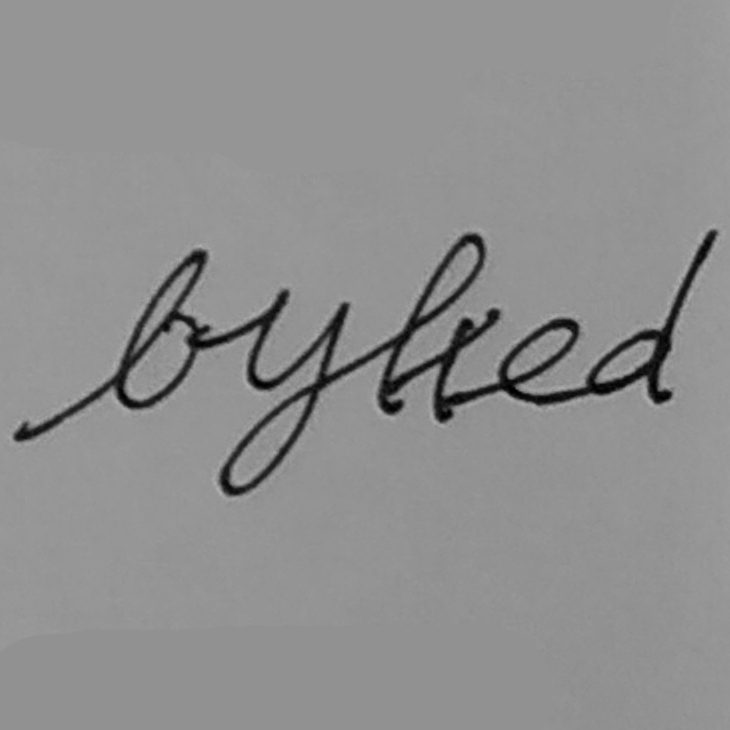b: (110, 244, 212, 411)
d: (583, 224, 720, 410)
e: (494, 312, 581, 407)
k: (371, 229, 504, 425)
y: (216, 287, 351, 499)
